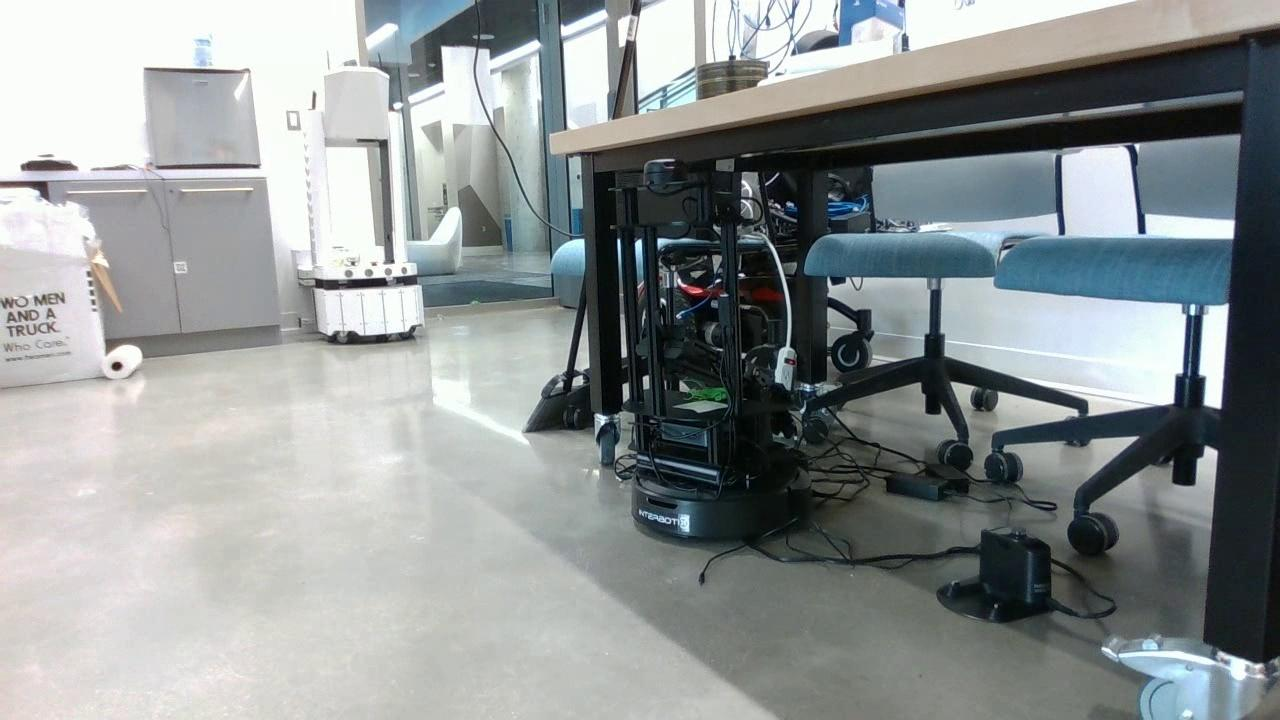grasshopper: (682, 388, 732, 400)
